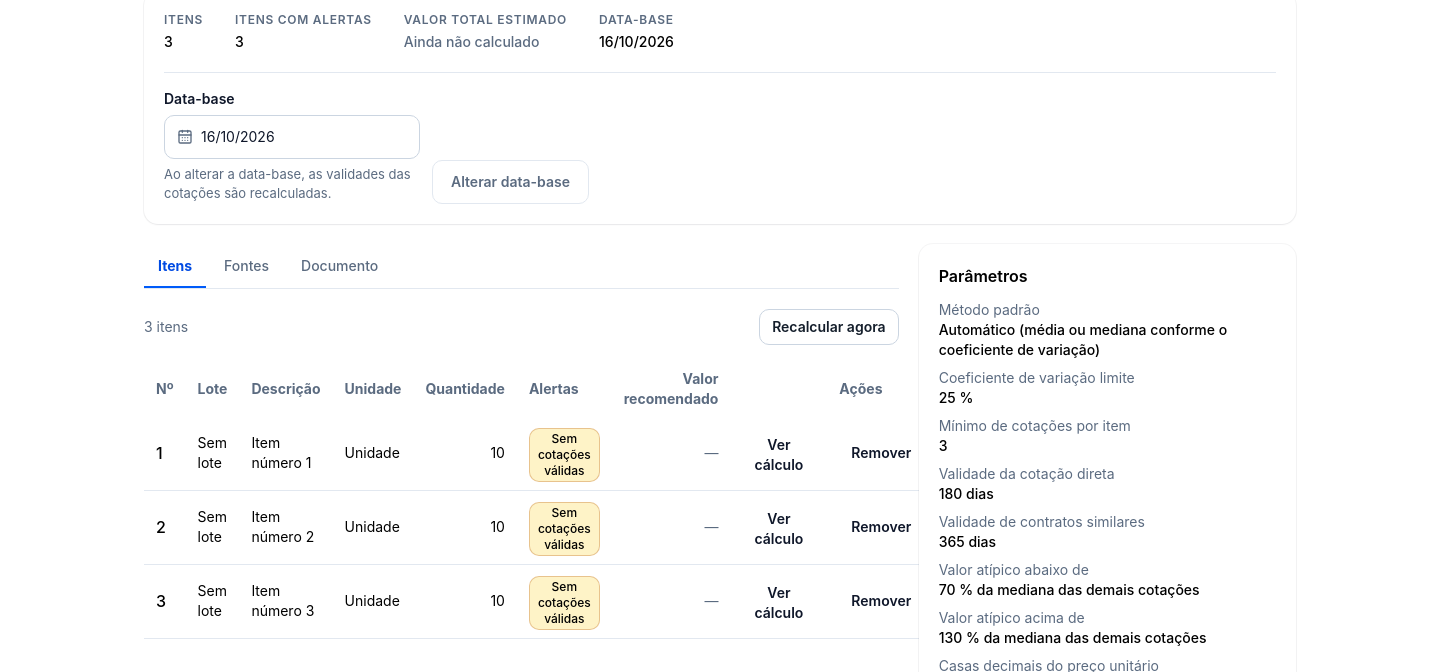
Test: Aba "Fontes" da SCR-009 (US-026) › FA-05: célula desconsiderada fica somente leitura com o motivo; FA-03: uma célula gravada vai pelo PRS-14
Click the tab "Fontes".
click(246, 266)  # box left=210, top=244, right=283, bottom=288
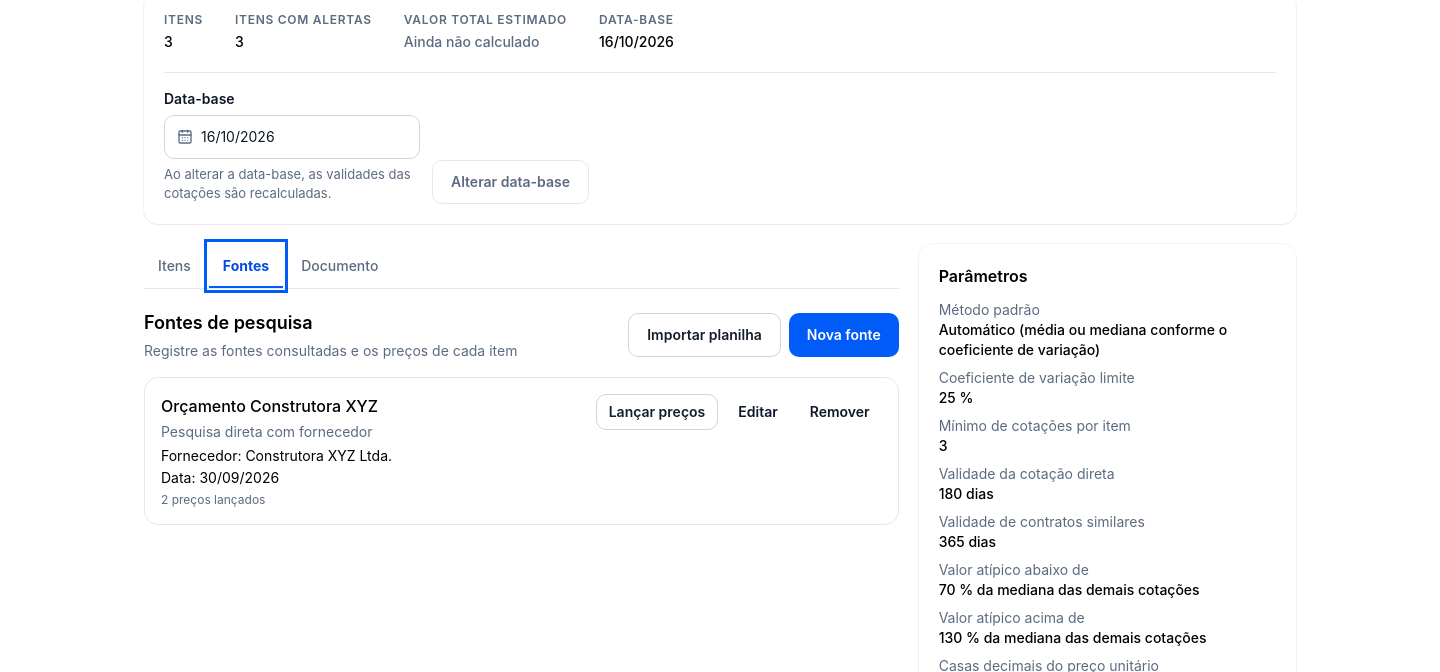
Click the button "Lançar preços".
click(657, 412)  # box left=596, top=394, right=718, bottom=430
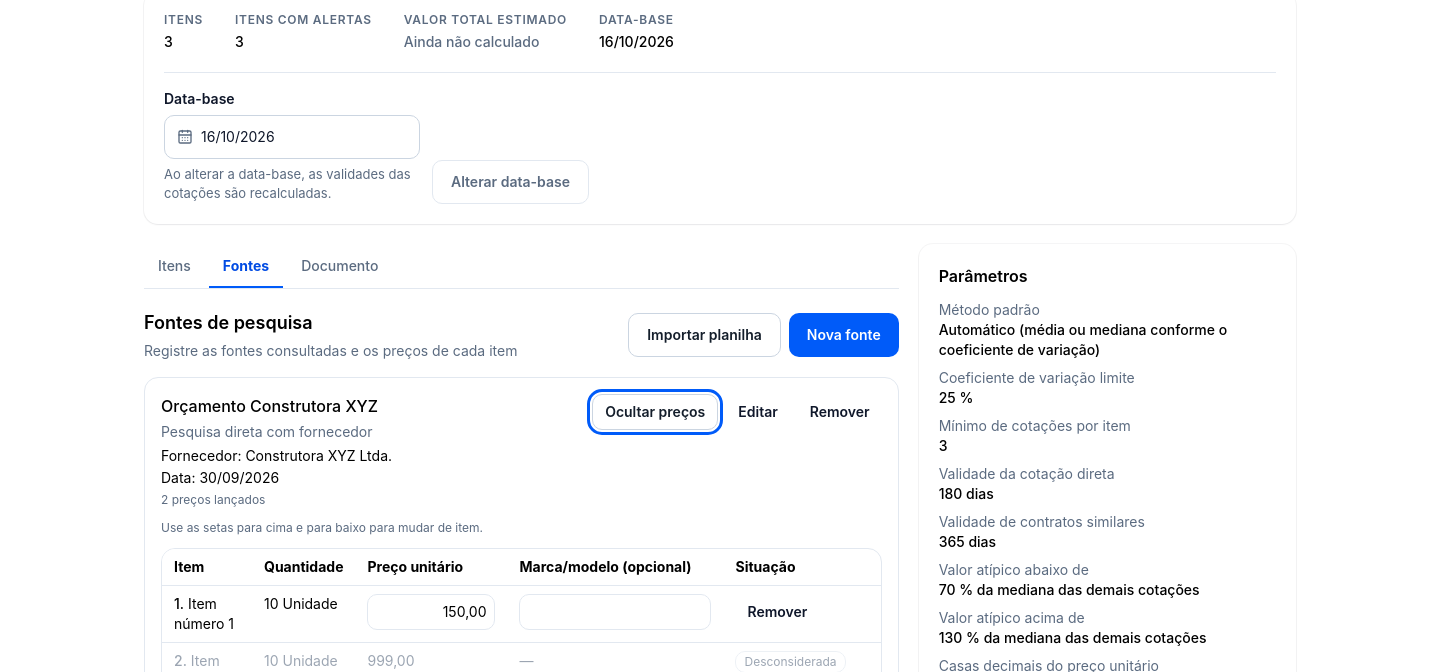
Now the field named "Preço unitário do item 1" holds "150,00"
Replace the text in the field named "Preço unitário do item 1" with "149,90" at [432, 612], box left=368, top=594, right=496, bottom=630
(page scrolled)
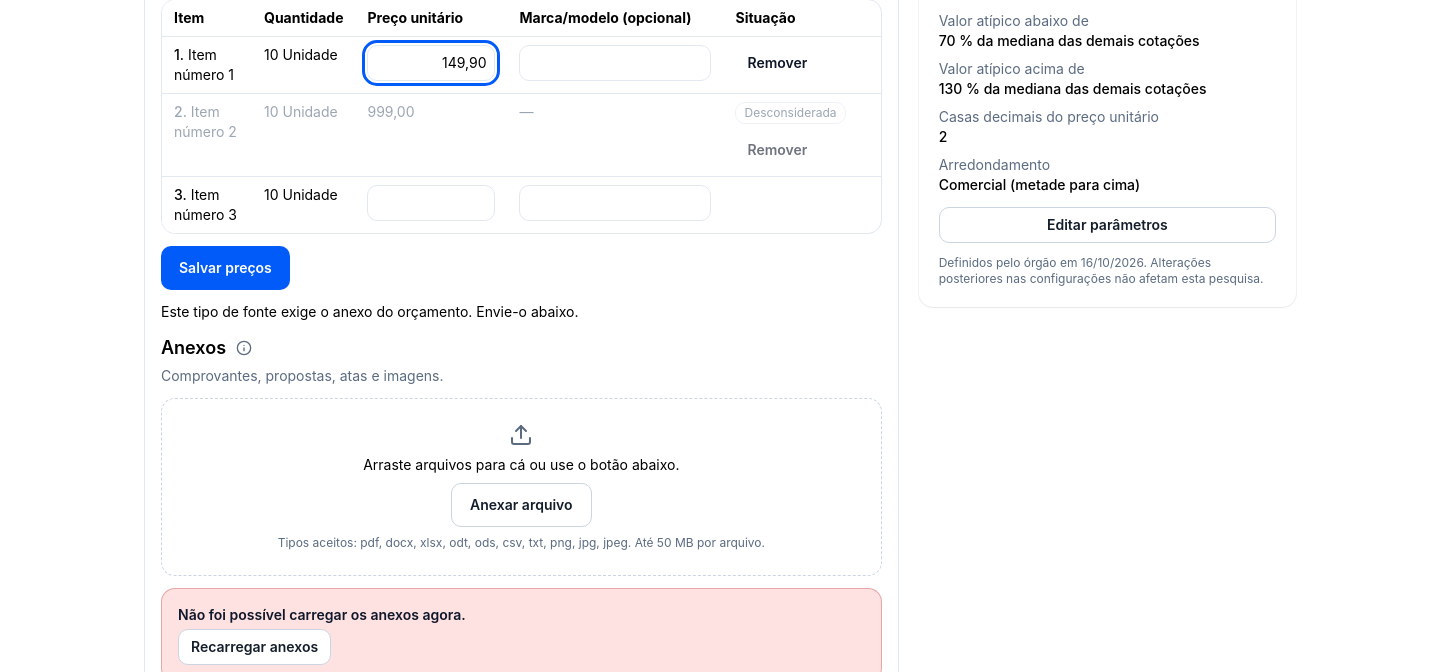
Click the button "Salvar preços".
click(225, 268)  # box left=161, top=246, right=290, bottom=290
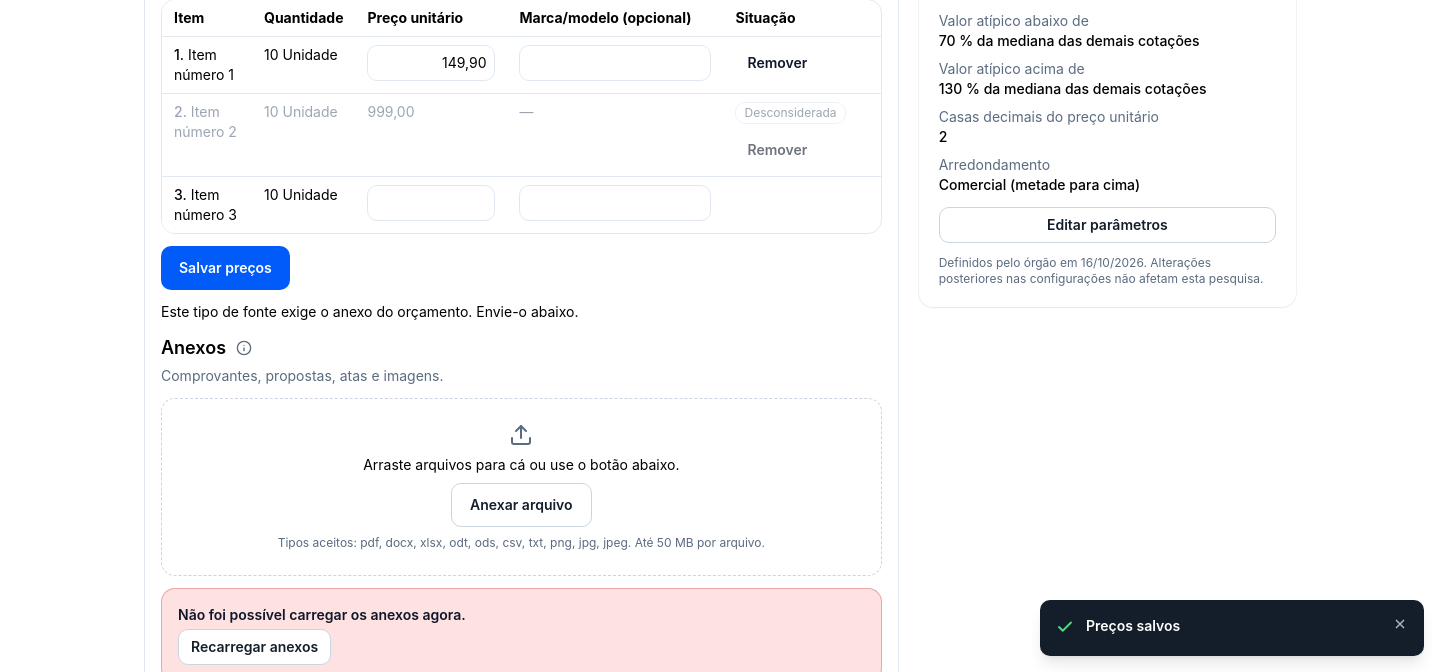
Now the text "Preços salvos" is shown, box left=1086, top=617, right=1180, bottom=634
